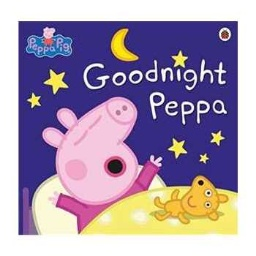Peppa: (41, 93, 165, 233)
